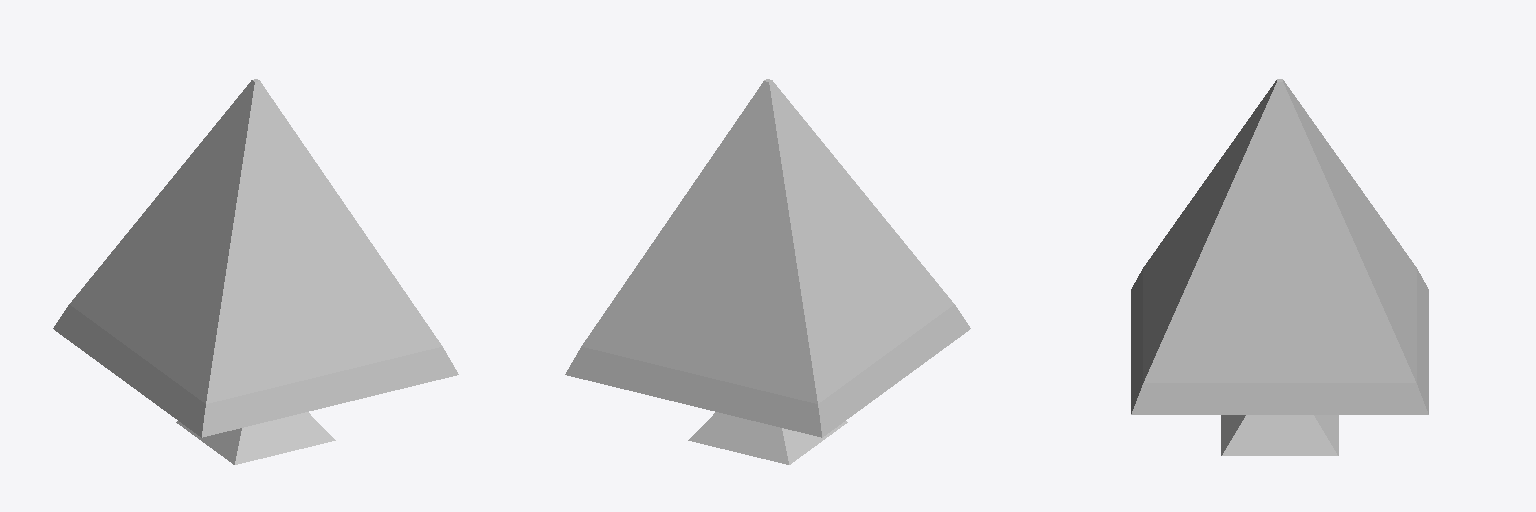
File: pointree.obj
3 renders of one model, left to right at view 1: azimuth 30°, elevation 25°; view 2: azimuth 150°, elevation 25°; view 3: azimuth 270°, elevation 25°, orthographic.
Parts seen in each view (by area): view 1: Cube_Cube.001; view 2: Cube_Cube.001; view 3: Cube_Cube.001.
Part boxes in pixels (bbox=[...]): Cube_Cube.001: bbox=[53, 79, 458, 464]; Cube_Cube.001: bbox=[565, 79, 970, 464]; Cube_Cube.001: bbox=[1131, 79, 1428, 455].
Size of the model in its own units: 5.08 by 6.62 by 5.08.